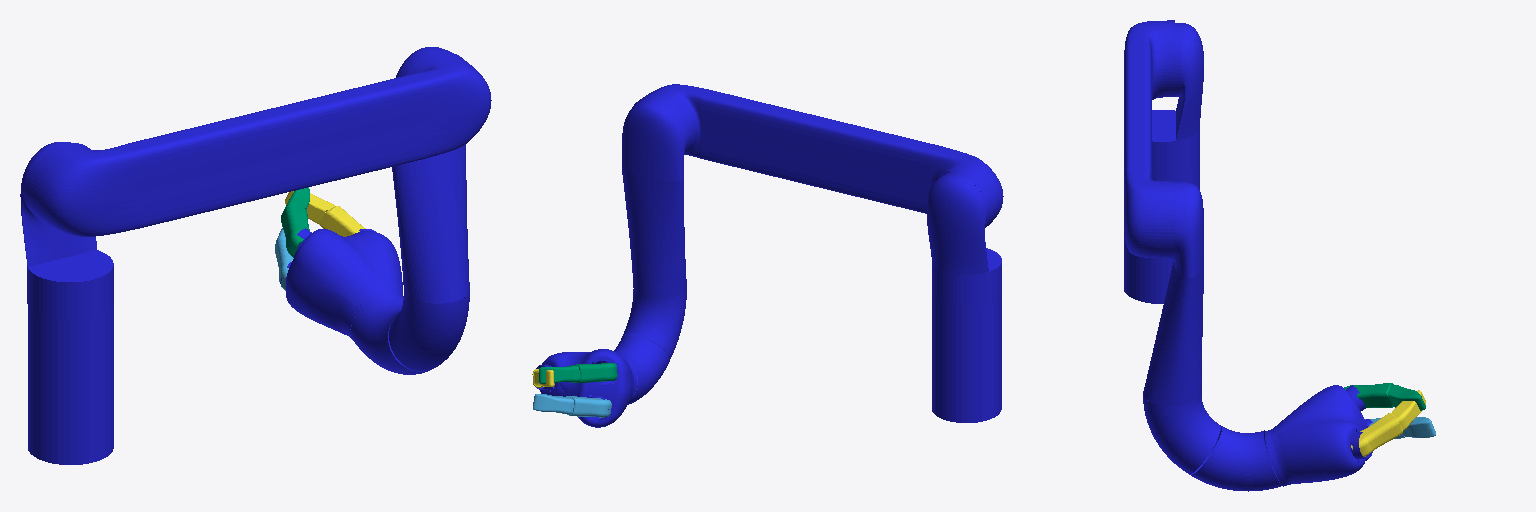
URDF robot description (jaco_standalone):
<?xml version="1.0" ?>
<!-- =================================================================================== -->
<!-- |    This document was autogenerated by xacro from jaco_standalone.urdf.xacro     | -->
<!-- |    EDITING THIS FILE BY HAND IS NOT RECOMMENDED                                 | -->
<!-- =================================================================================== -->
<robot name="jaco_standalone" xmlns:controller="http://playerstage.sourceforge.net/gazebo/xmlschema/#controller" xmlns:interface="http://playerstage.sourceforge.net/gazebo/xmlschema/#interface" xmlns:sensor="http://playerstage.sourceforge.net/gazebo/xmlschema/#sensor" xmlns:xacro="http://ros.org/wiki/xacro">
  <link name="base_link"/>
  <joint name="base_joint" type="fixed">
    <parent link="base_link"/>
    <child link="jaco_base_link"/>
    <origin xyz="0 0 0"/>
  </joint>
  <gazebo>
    <plugin filename="libgazebo_ros_controller_manager.so" name="gazebo_ros_controller_manager">
      <alwaysOn>true</alwaysOn>
      <updateRate>1000.0</updateRate>
      <robotParam>robot_description</robotParam>
    </plugin>
  </gazebo>
  <transmission name="jaco_1_trans" type="pr2_mechanism_model/SimpleTransmission">
    <actuator name="jaco_1_motor"/>
    <joint name="jaco_joint_1"/>
    <mechanicalReduction>1</mechanicalReduction>
    <motorTorqueConstant>1</motorTorqueConstant>
  </transmission>
  <transmission name="jaco_2_trans" type="pr2_mechanism_model/SimpleTransmission">
    <actuator name="jaco_2_motor"/>
    <joint name="jaco_joint_2"/>
    <mechanicalReduction>1</mechanicalReduction>
    <motorTorqueConstant>1</motorTorqueConstant>
  </transmission>
  <transmission name="jaco_3_trans" type="pr2_mechanism_model/SimpleTransmission">
    <actuator name="jaco_3_motor"/>
    <joint name="jaco_joint_3"/>
    <mechanicalReduction>1</mechanicalReduction>
    <motorTorqueConstant>1</motorTorqueConstant>
  </transmission>
  <transmission name="jaco_4_trans" type="pr2_mechanism_model/SimpleTransmission">
    <actuator name="jaco_4_motor"/>
    <joint name="jaco_joint_4"/>
    <mechanicalReduction>1</mechanicalReduction>
    <motorTorqueConstant>1</motorTorqueConstant>
  </transmission>
  <transmission name="jaco_5_trans" type="pr2_mechanism_model/SimpleTransmission">
    <actuator name="jaco_5_motor"/>
    <joint name="jaco_joint_5"/>
    <mechanicalReduction>1</mechanicalReduction>
    <motorTorqueConstant>1</motorTorqueConstant>
  </transmission>
  <transmission name="jaco_6_trans" type="pr2_mechanism_model/SimpleTransmission">
    <actuator name="jaco_6_motor"/>
    <joint name="jaco_joint_6"/>
    <mechanicalReduction>1</mechanicalReduction>
    <motorTorqueConstant>1</motorTorqueConstant>
  </transmission>
  <transmission name="jaco_finger_1_trans" type="pr2_mechanism_model/SimpleTransmission">
    <actuator name="jaco_finger_1_motor"/>
    <joint name="jaco_finger_joint_1"/>
    <mechanicalReduction>1</mechanicalReduction>
    <motorTorqueConstant>1</motorTorqueConstant>
  </transmission>
  <transmission name="jaco_finger_2_trans" type="pr2_mechanism_model/SimpleTransmission">
    <actuator name="jaco_finger_2_motor"/>
    <joint name="jaco_finger_joint_2"/>
    <mechanicalReduction>1</mechanicalReduction>
    <motorTorqueConstant>1</motorTorqueConstant>
  </transmission>
  <transmission name="jaco_finger_3_trans" type="pr2_mechanism_model/SimpleTransmission">
    <actuator name="jaco_finger_3_motor"/>
    <joint name="jaco_finger_joint_3"/>
    <mechanicalReduction>1</mechanicalReduction>
    <motorTorqueConstant>1</motorTorqueConstant>
  </transmission>
  <material name="JacoGrey">
    <color rgba="0.2 0.2 0.9 1.0"/>
  </material>
  <link name="jaco_base_link">
    <inertial>
      <mass value="1"/>
      <!--origin xyz="0 0 -0.0525" rpy="0 0 0"/-->
      <origin rpy="0 0 0" xyz="0 0 0.0"/>
      <inertia ixx="1" ixy="0" ixz="0" iyy="1" iyz="0" izz="1"/>
    </inertial>
    <visual>
      <material name="JacoGrey"/>
      <!--origin xyz="0 0 -0.0525" rpy="0 0 0"/-->
      <geometry>
        <mesh filename="package://jaco_description/meshes/joint_1.stl" scale="0.001 0.001 0.001"/>
      </geometry>
    </visual>
    <collision>
      <!--origin xyz="0 0 -0.0525" rpy="0 0 0"/-->
      <geometry>
        <mesh filename="package://jaco_description/meshes/joint_1.stl" scale="0.001 0.001 0.001"/>
      </geometry>
    </collision>
  </link>
  <gazebo reference="jaco_base_link">
    <material>Gazebo/Yellow</material>
    <turnGravityOff>true</turnGravityOff>
  </gazebo>
  <joint name="jaco_joint_1" type="revolute">
    <!--origin xyz="0 0 0.2102" rpy="0 0 0"/-->
    <origin rpy="0 0 0" xyz="0 0 0.2725"/>
    <axis rpy="0 0 0" xyz="0 0 -1"/>
    <parent link="jaco_base_link"/>
    <child link="jaco_link_1"/>
    <limit effort="30" lower="-3.14159265359" upper="3.14159265359" velocity="5"/>
  </joint>
  <link name="jaco_link_1">
    <inertial>
      <mass value="1"/>
      <inertia ixx="1" ixy="0" ixz="0" iyy="1" iyz="0" izz="1"/>
      <origin/>
    </inertial>
    <visual>
      <material name="JacoGrey"/>
      <origin rpy="0 0 -1.570796327" xyz="0 0 -0.12"/>
      <geometry>
        <mesh filename="package://jaco_description/meshes/joint_2.stl" scale="0.001 0.001 0.001"/>
      </geometry>
    </visual>
    <collision>
      <origin rpy="0 0 -1.570796327" xyz="0 0 -0.12"/>
      <geometry>
        <mesh filename="package://jaco_description/meshes/joint_2.stl" scale="0.001 0.001 0.001"/>
      </geometry>
    </collision>
  </link>
  <gazebo reference="jaco_link_1">
    <material>Gazebo/Red</material>
    <turnGravityOff>true</turnGravityOff>
  </gazebo>
  <joint name="jaco_joint_2" type="revolute">
    <origin rpy="-1.570796327 0 0" xyz="0 0 0"/>
    <axis xyz="0 0 1"/>
    <parent link="jaco_link_1"/>
    <child link="jaco_link_2"/>
    <limit effort="30" lower="-3.14159265359" upper="3.14159265359" velocity="5"/>
  </joint>
  <link name="jaco_link_2">
    <inertial>
      <mass value="1"/>
      <inertia ixx="1" ixy="0" ixz="0" iyy="1" iyz="0" izz="1"/>
      <origin/>
    </inertial>
    <visual>
      <material name="JacoGrey"/>
      <origin rpy="0 1.570796327 0" xyz="0 0 0.015"/>
      <geometry>
        <mesh filename="package://jaco_description/meshes/joint_3.stl" scale="0.001 0.001 0.001"/>
      </geometry>
    </visual>
    <collision>
      <origin rpy="0 1.570796327 0" xyz="0 0 0.015"/>
      <geometry>
        <mesh filename="package://jaco_description/meshes/joint_3.stl" scale="0.001 0.001 0.001"/>
      </geometry>
    </collision>
  </link>
  <gazebo reference="jaco_link_2">
    <material>Gazebo/Blue</material>
    <turnGravityOff>true</turnGravityOff>
  </gazebo>
  <joint name="jaco_joint_3" type="revolute">
    <origin rpy="0 0 0" xyz="0.4100 0 0.012"/>
    <axis xyz="0 0 -1"/>
    <parent link="jaco_link_2"/>
    <child link="jaco_link_3"/>
    <limit effort="30" lower="-3.14159265359" upper="3.14159265359" velocity="5"/>
  </joint>
  <link name="jaco_link_3">
    <inertial>
      <mass value="1"/>
      <inertia ixx="1" ixy="0" ixz="0" iyy="1" iyz="0" izz="1"/>
      <origin/>
    </inertial>
    <visual>
      <material name="JacoGrey"/>
      <origin rpy="0 1.570796327 1.570796327" xyz="0 0 -0.012"/>
      <geometry>
        <mesh filename="package://jaco_description/meshes/joint_4.stl" scale="1.000 1.000 1.000"/>
      </geometry>
    </visual>
    <collision>
      <origin rpy="0 1.570796327 1.570796327" xyz="0 0 -0.012"/>
      <geometry>
        <mesh filename="package://jaco_description/meshes/joint_4.stl" scale="1.000 1.000 1.000"/>
      </geometry>
    </collision>
  </link>
  <gazebo reference="jaco_link_3">
    <material>Gazebo/Red</material>
    <turnGravityOff>true</turnGravityOff>
  </gazebo>
  <joint name="jaco_joint_4" type="revolute">
    <origin rpy="-1.570796327 0 0" xyz="0 0.24927682300748782 0 "/>
    <axis xyz="0 0 -1"/>
    <parent link="jaco_link_3"/>
    <child link="jaco_link_4"/>
    <limit effort="30" lower="-3.14159265359" upper="3.14159265359" velocity="5"/>
  </joint>
  <link name="jaco_link_4">
    <inertial>
      <mass value="1"/>
      <inertia ixx="1" ixy="0" ixz="0" iyy="1" iyz="0" izz="1"/>
      <origin/>
    </inertial>
    <visual>
      <material name="JacoGrey"/>
      <origin rpy="0 0 -1.570796327" xyz="0 0 -0.042276823"/>
      <geometry>
        <mesh filename="package://jaco_description/meshes/joint_5.stl" scale="0.001 0.001 0.001"/>
      </geometry>
    </visual>
    <collision>
      <origin rpy="0 0 -1.570796327" xyz="0 0 -0.042276823"/>
      <geometry>
        <mesh filename="package://jaco_description/meshes/joint_5.stl" scale="0.001 0.001 0.001"/>
      </geometry>
    </collision>
  </link>
  <gazebo reference="jaco_link_4">
    <material>Gazebo/Blue</material>
    <turnGravityOff>true</turnGravityOff>
  </gazebo>
  <joint name="jaco_joint_5" type="revolute">
    <origin rpy="0.959931089 0 0" xyz="0 -0.069262292 0.048497979"/>
    <axis xyz="0 0 -1"/>
    <parent link="jaco_link_4"/>
    <child link="jaco_link_5"/>
    <limit effort="30" lower="-3.14159265359" upper="3.14159265359" velocity="5"/>
  </joint>
  <link name="jaco_link_5">
    <inertial>
      <mass value="1.0"/>
      <inertia ixx="1" ixy="0" ixz="0" iyy="1" iyz="0" izz="1"/>
      <origin/>
    </inertial>
    <visual>
      <material name="JacoGrey"/>
      <origin rpy="0 -0.959931089 1.570796327" xyz="0 0 -0.042276823"/>
      <geometry>
        <mesh filename="package://jaco_description/meshes/joint_6.stl" scale="0.001 0.001 0.001"/>
      </geometry>
    </visual>
    <collision>
      <origin rpy="0 -0.959931089 1.570796327" xyz="0 0 -0.042276823"/>
      <geometry>
        <mesh filename="package://jaco_description/meshes/joint_6.stl" scale="0.001 0.001 0.001"/>
      </geometry>
    </collision>
  </link>
  <gazebo reference="jaco_link_5">
    <material>Gazebo/Red</material>
    <turnGravityOff>true</turnGravityOff>
  </gazebo>
  <joint name="jaco_joint_6" type="revolute">
    <!--origin xyz="0 -0.186174274 0.13036063" rpy="0.959931089 0 0"/-->
    <origin rpy="-0.959931089 0 3.1415926535897931" xyz="0 -0.186174274 0.13036063"/>
    <!--<origin xyz="0 0 0" rpy="0 0 -3.14"/>-->
    <axis xyz="0 0 -1"/>
    <parent link="jaco_link_5"/>
    <child link="jaco_link_6"/>
    <limit effort="30" lower="-3.14159265359" upper="3.14159265359" velocity="5"/>
  </joint>
  <link name="jaco_link_6">
    <inertial>
      <mass value="0.3"/>
      <inertia ixx="1" ixy="0" ixz="0" iyy="1" iyz="0" izz="1"/>
      <origin/>
    </inertial>
    <visual>
      <material name="JacoGrey"/>
      <origin rpy="0 0 -3.1415926535897931" xyz="0 0 -0.1850"/>
      <!--<origin xyz="0 0 -0.1850" rpy="0 0 0"/>      -->
      <geometry>
        <mesh filename="package://jaco_description/meshes/hand_with_noFinger.stl" scale="0.001 0.001 0.001"/>
      </geometry>
    </visual>
    <collision>
      <origin rpy="0 0 -3.1415926535897931" xyz="0 0 -0.1850"/>
      <!--<origin xyz="0 0 -0.1850" rpy="0 0 0"/>-->
      <geometry>
        <mesh filename="package://jaco_description/meshes/hand_with_noFinger.stl" scale="0.001 0.001 0.001"/>
      </geometry>
    </collision>
  </link>
  <gazebo reference="jaco_link_6">
    <material>Gazebo/Blue</material>
    <turnGravityOff>true</turnGravityOff>
  </gazebo>
  <joint name="jaco_gripper_tool_frame_joint" type="fixed">
    <parent link="jaco_link_6"/>
    <child link="jaco_gripper_tool_frame"/>
    <origin rpy="0.23 -1.570796327 1.570796327" xyz="0 0 -0.08"/>
  </joint>
  <link name="jaco_gripper_tool_frame">
    <!-- This is the coordinate system of the tool (this is the position
         used in IK etc., relative to the base frame); there is no actual
         arm part attached to this link -->
  </link>
  <joint name="jaco_finger_joint_1" type="revolute">
    <!--origin xyz="-0.036 -0.021 -0.07" rpy="0 0 0"/-->
    <!-- changed becuase it look funny in simulation-->
    <origin rpy="0 0 3.14159265359" xyz="0.036 -0.021 -0.09"/>
    <axis xyz="0 1 0"/>
    <parent link="jaco_link_6"/>
    <child link="jaco_finger_link_1"/>
    <limit effort="30" lower="0.004" upper="1.044" velocity="5"/>
  </joint>
  <link name="jaco_finger_link_1">
    <inertial>
      <mass value="0.05"/>
      <inertia ixx="1" ixy="0" ixz="0" iyy="1" iyz="0" izz="1"/>
      <origin/>
    </inertial>
    <visual>
      <origin rpy="0 0 0" xyz="0 0 0"/>
      <geometry>
        <mesh filename="package://jaco_description/meshes/finger.stl" scale="1 1 1"/>
      </geometry>
    </visual>
    <collision>
      <origin rpy="0 0 0" xyz="0 0 0"/>
      <geometry>
        <mesh filename="package://jaco_description/meshes/finger.stl" scale="1 1 1"/>
      </geometry>
    </collision>
  </link>
  <gazebo reference="jaco_finger_link_1">
    <material>Gazebo/Blue</material>
    <turnGravityOff>true</turnGravityOff>
  </gazebo>
  <joint name="jaco_finger_joint_2" type="revolute">
    <!--origin xyz="-0.036 0.021 -0.07" rpy="0 0 0"/-->
    <origin rpy="0 0 3.37159265359" xyz="0.036 0.021 -0.09"/>
    <axis xyz="0 1 0"/>
    <parent link="jaco_link_6"/>
    <child link="jaco_finger_link_2"/>
    <limit effort="30" lower="0.004" upper="1.044" velocity="5"/>
  </joint>
  <link name="jaco_finger_link_2">
    <inertial>
      <mass value="0.05"/>
      <inertia ixx="1" ixy="0" ixz="0" iyy="1" iyz="0" izz="1"/>
      <origin/>
    </inertial>
    <visual>
      <origin rpy="0 0 0" xyz="0 0 0"/>
      <geometry>
        <mesh filename="package://jaco_description/meshes/finger.stl" scale="1 1 1"/>
      </geometry>
    </visual>
    <collision>
      <origin rpy="0 0 0" xyz="0 0 0"/>
      <geometry>
        <mesh filename="package://jaco_description/meshes/finger.stl" scale="1 1 1"/>
      </geometry>
    </collision>
  </link>
  <gazebo reference="jaco_finger_link_2">
    <material>Gazebo/Blue</material>
    <turnGravityOff>true</turnGravityOff>
  </gazebo>
  <joint name="jaco_finger_joint_3" type="revolute">
    <!--origin xyz="0.036 -0 -0.07" rpy="0 0 3.14"/-->
    <origin rpy="0 0 0.23" xyz="-0.036 -0 -0.09"/>
    <axis xyz="0 1 0"/>
    <parent link="jaco_link_6"/>
    <child link="jaco_finger_link_3"/>
    <limit effort="30" lower="0.004" upper="1.044" velocity="5"/>
  </joint>
  <link name="jaco_finger_link_3">
    <inertial>
      <mass value="0.05"/>
      <inertia ixx="1" ixy="0" ixz="0" iyy="1" iyz="0" izz="1"/>
      <origin/>
    </inertial>
    <visual>
      <origin rpy="0 0 0" xyz="0 0 0"/>
      <geometry>
        <mesh filename="package://jaco_description/meshes/finger.stl" scale="1 1 1"/>
      </geometry>
    </visual>
    <collision>
      <origin rpy="0 0 0" xyz="0 0 0"/>
      <geometry>
        <mesh filename="package://jaco_description/meshes/finger.stl" scale="1 1 1"/>
      </geometry>
    </collision>
  </link>
  <gazebo reference="jaco_finger_link_3">
    <material>Gazebo/Blue</material>
    <turnGravityOff>true</turnGravityOff>
  </gazebo>
</robot>

--- Render facts (derived) ---
The picture shows the robot from 3 angles, left to right: view 1: azimuth 30°, elevation 25°; view 2: azimuth 150°, elevation 25°; view 3: azimuth 270°, elevation 25°; orthographic projection.
Model jaco_standalone with 12 links and 11 joints (9 revolute, 2 fixed), rooted at base_link, posed joints at zero except 3 at the middle of their limits (jaco_finger_joint_1 = 0.524, jaco_finger_joint_2 = 0.524, jaco_finger_joint_3 = 0.524).
Visible links, largest first — view 1: jaco_link_2, jaco_base_link, jaco_link_3, jaco_link_6, jaco_link_1, jaco_link_4, jaco_link_5, jaco_finger_link_3, jaco_finger_link_2, jaco_finger_link_1; view 2: jaco_link_2, jaco_link_3, jaco_base_link, jaco_link_1, jaco_link_6, jaco_link_4, jaco_link_5, jaco_finger_link_1, jaco_finger_link_2; view 3: jaco_link_2, jaco_link_3, jaco_link_6, jaco_link_1, jaco_link_5, jaco_link_4, jaco_base_link, jaco_finger_link_3, jaco_finger_link_2, jaco_finger_link_1.
Boxes of the visible links, x1=… form: jaco_link_2: x1=26, y1=52, x2=491, y2=236; jaco_base_link: x1=28, y1=302, x2=113, y2=464; jaco_link_3: x1=392, y1=47, x2=469, y2=303; jaco_link_6: x1=280, y1=228, x2=403, y2=338; jaco_link_1: x1=20, y1=142, x2=113, y2=319; jaco_link_4: x1=389, y1=292, x2=469, y2=370; jaco_link_5: x1=350, y1=296, x2=429, y2=374; jaco_finger_link_3: x1=285, y1=191, x2=365, y2=236; jaco_finger_link_2: x1=281, y1=187, x2=309, y2=257; jaco_finger_link_1: x1=275, y1=228, x2=293, y2=290; jaco_link_2: x1=634, y1=84, x2=1003, y2=227; jaco_link_3: x1=622, y1=94, x2=694, y2=298; jaco_base_link: x1=932, y1=293, x2=1001, y2=422; jaco_link_1: x1=927, y1=170, x2=1001, y2=305; jaco_link_6: x1=536, y1=349, x2=636, y2=427; jaco_link_4: x1=621, y1=289, x2=686, y2=358; jaco_link_5: x1=591, y1=335, x2=669, y2=404; jaco_finger_link_1: x1=533, y1=394, x2=611, y2=417; jaco_finger_link_2: x1=539, y1=363, x2=617, y2=383; jaco_link_2: x1=1124, y1=20, x2=1174, y2=257; jaco_link_3: x1=1143, y1=182, x2=1203, y2=405; jaco_link_6: x1=1265, y1=385, x2=1372, y2=486; jaco_link_1: x1=1152, y1=23, x2=1203, y2=174; jaco_link_5: x1=1189, y1=425, x2=1281, y2=491; jaco_link_4: x1=1143, y1=391, x2=1220, y2=473; jaco_base_link: x1=1124, y1=163, x2=1199, y2=303; jaco_finger_link_3: x1=1351, y1=390, x2=1425, y2=456; jaco_finger_link_2: x1=1344, y1=383, x2=1425, y2=410; jaco_finger_link_1: x1=1365, y1=417, x2=1435, y2=438.
Size in the robot's own frame: 0.5097 by 0.3366 by 0.3611 metres.
10 mesh visuals loaded from 8 distinct referenced files (8 binary STL).
